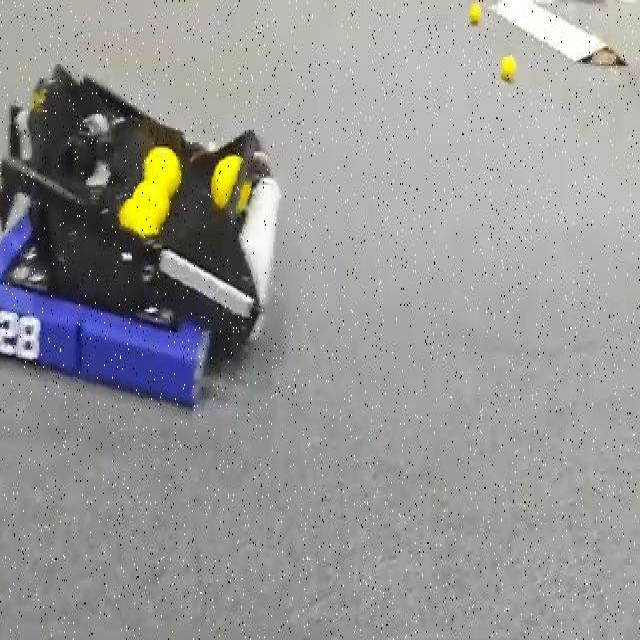Fuel: (117, 185, 165, 239), (142, 145, 182, 197), (210, 153, 244, 213), (143, 146, 181, 197), (210, 155, 242, 208), (235, 179, 252, 215), (500, 54, 516, 82), (501, 55, 515, 82), (468, 2, 481, 24), (469, 2, 481, 25)
